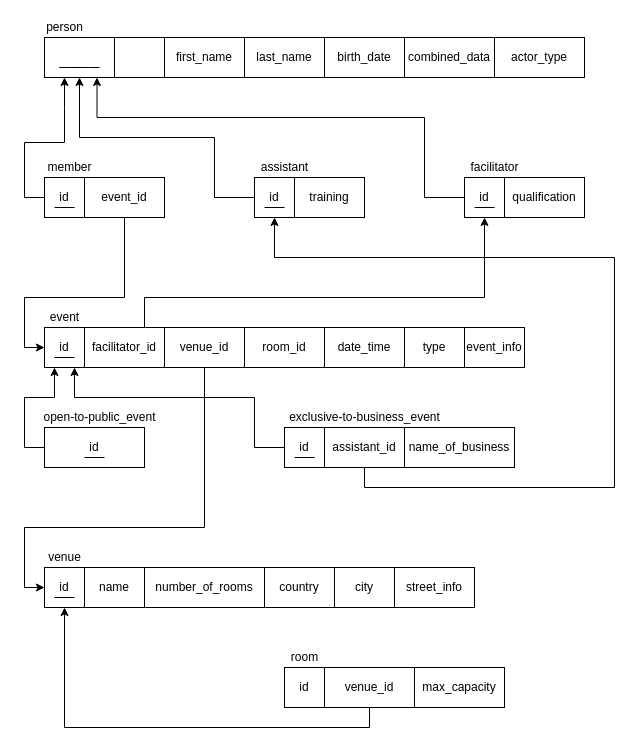
Some shapes in this 640 by 753 pixel diagram are drawn without their labels. Each missing label, with the centre of its shape:
"info" belongs at (139,57).
"person_id" belongs at (79,57).
